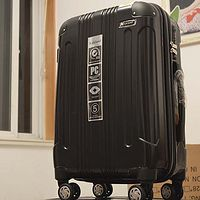suitcase: (52, 4, 186, 200)
